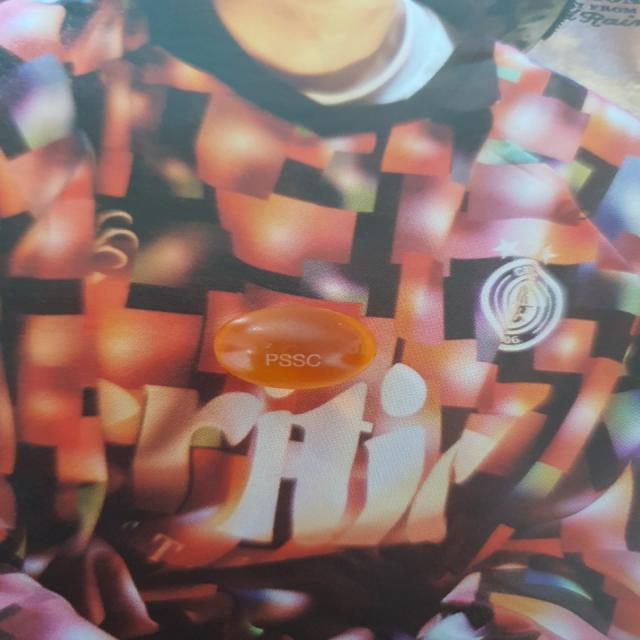pill: (201, 296, 398, 394)
